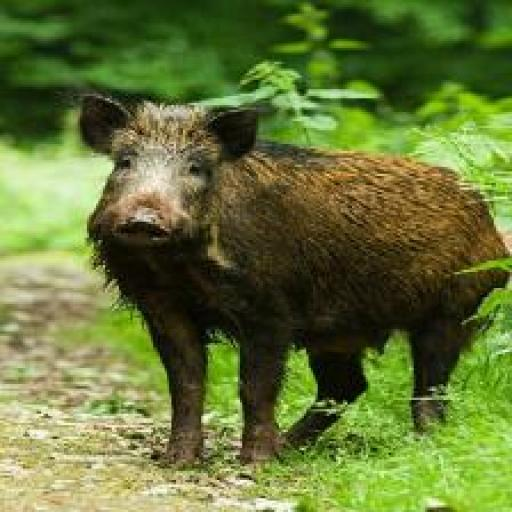Pig: (64, 80, 512, 464)
